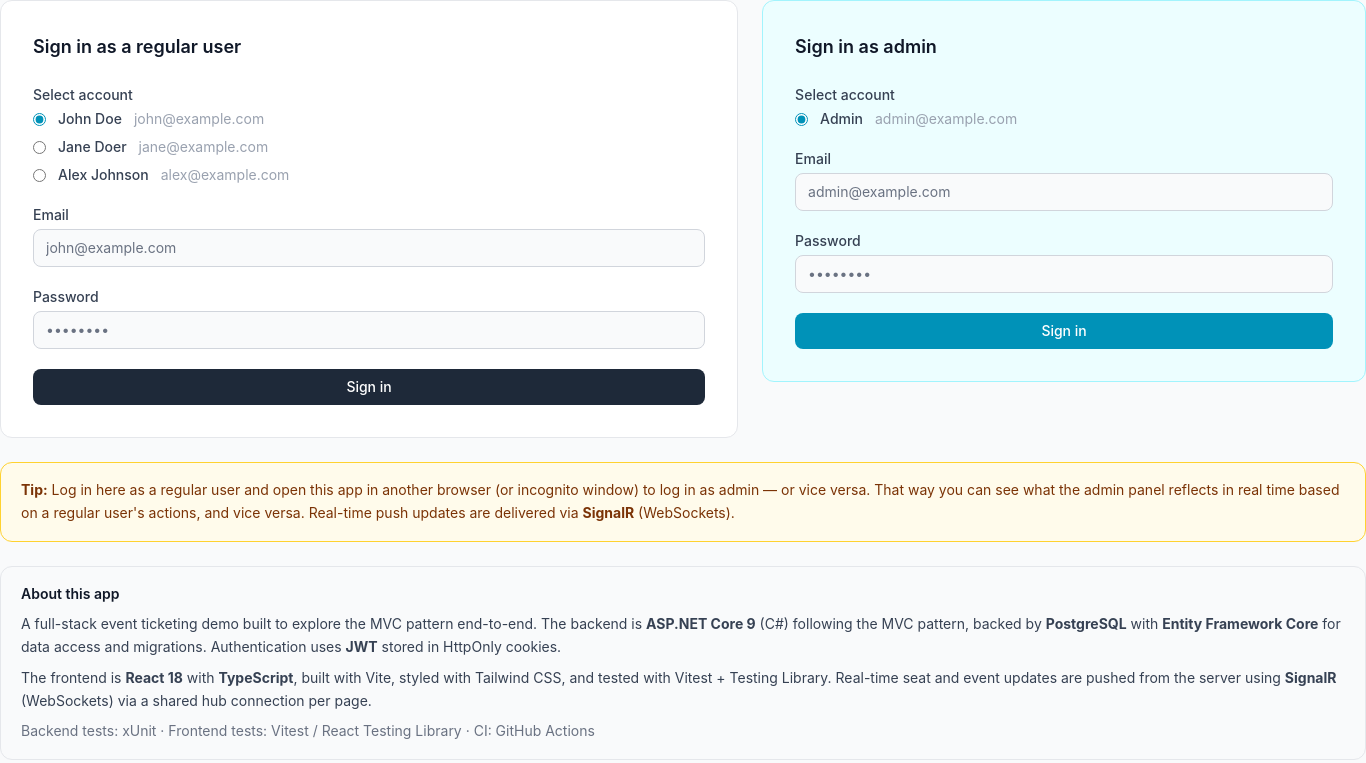
Test: failed login shows error message in the correct panel
This screenshot has width=1366, height=763.
Click the button "Sign in" below "Alex Johnson": {"x": 369, "y": 387} [33, 369, 705, 405]
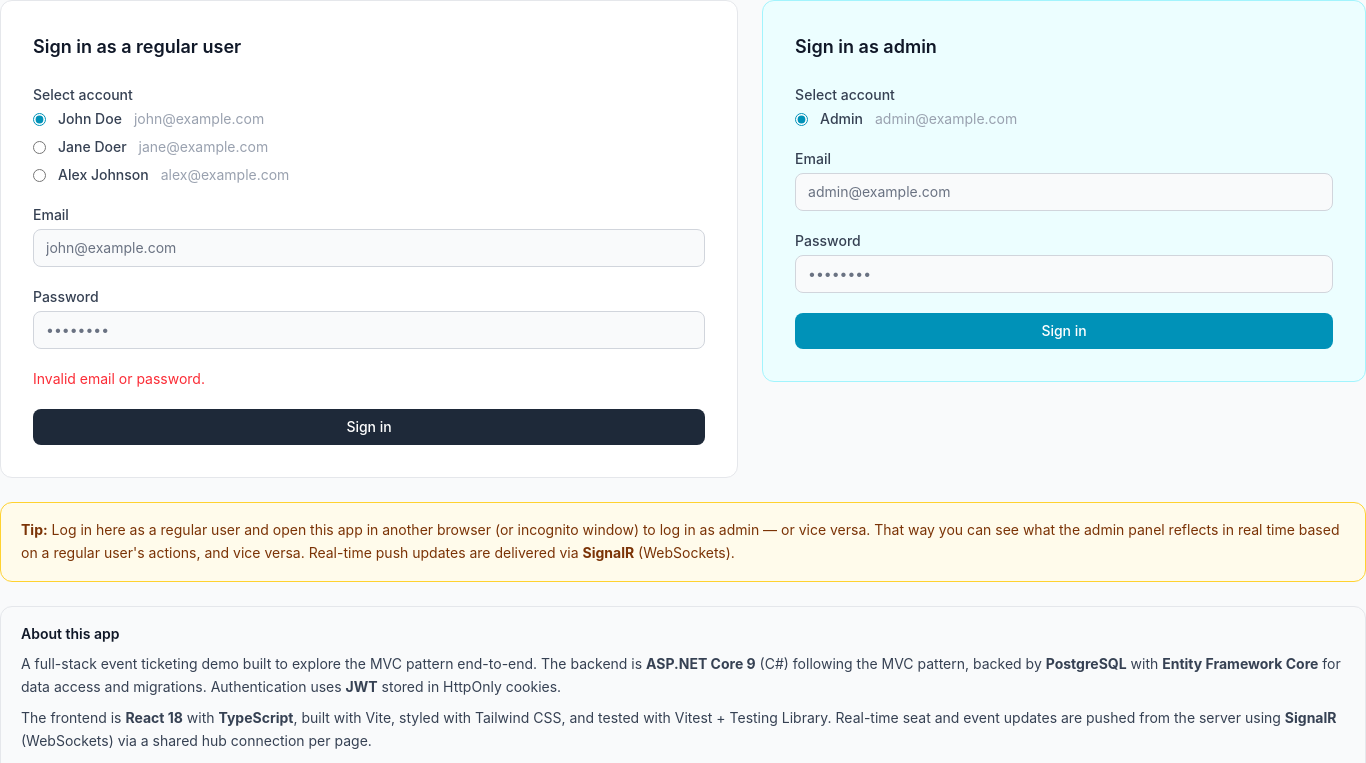
Expected: the message reads "Invalid email or password.", [33, 370, 205, 387]
